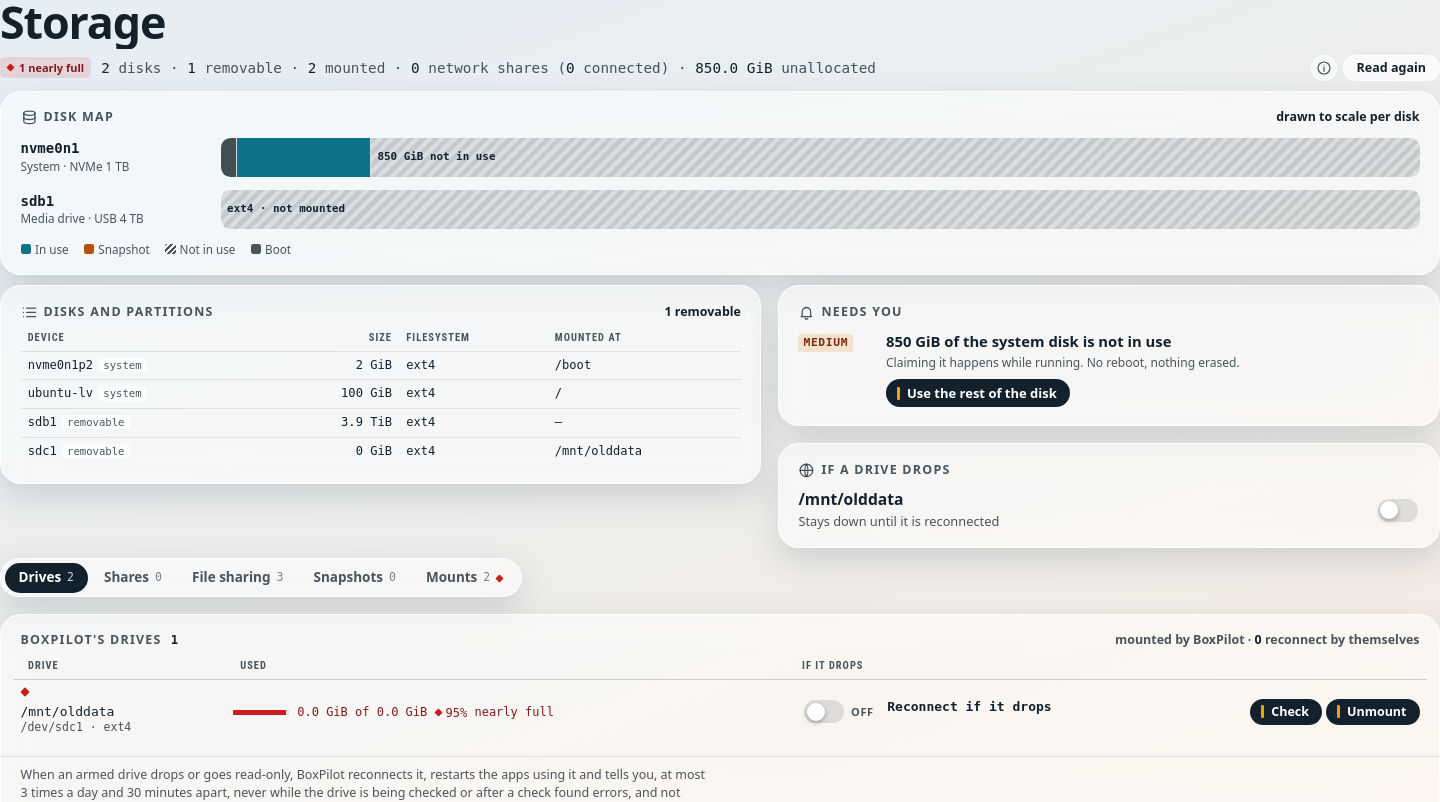
Test: Storage page › Drives › checks a drive BoxPilot mounted, naming the apps it pauses and the shares it disconnects
The image size is (1440, 802).
Click the button with aria-label "Check this drive" at (1286,712), box [1250, 699, 1322, 725]
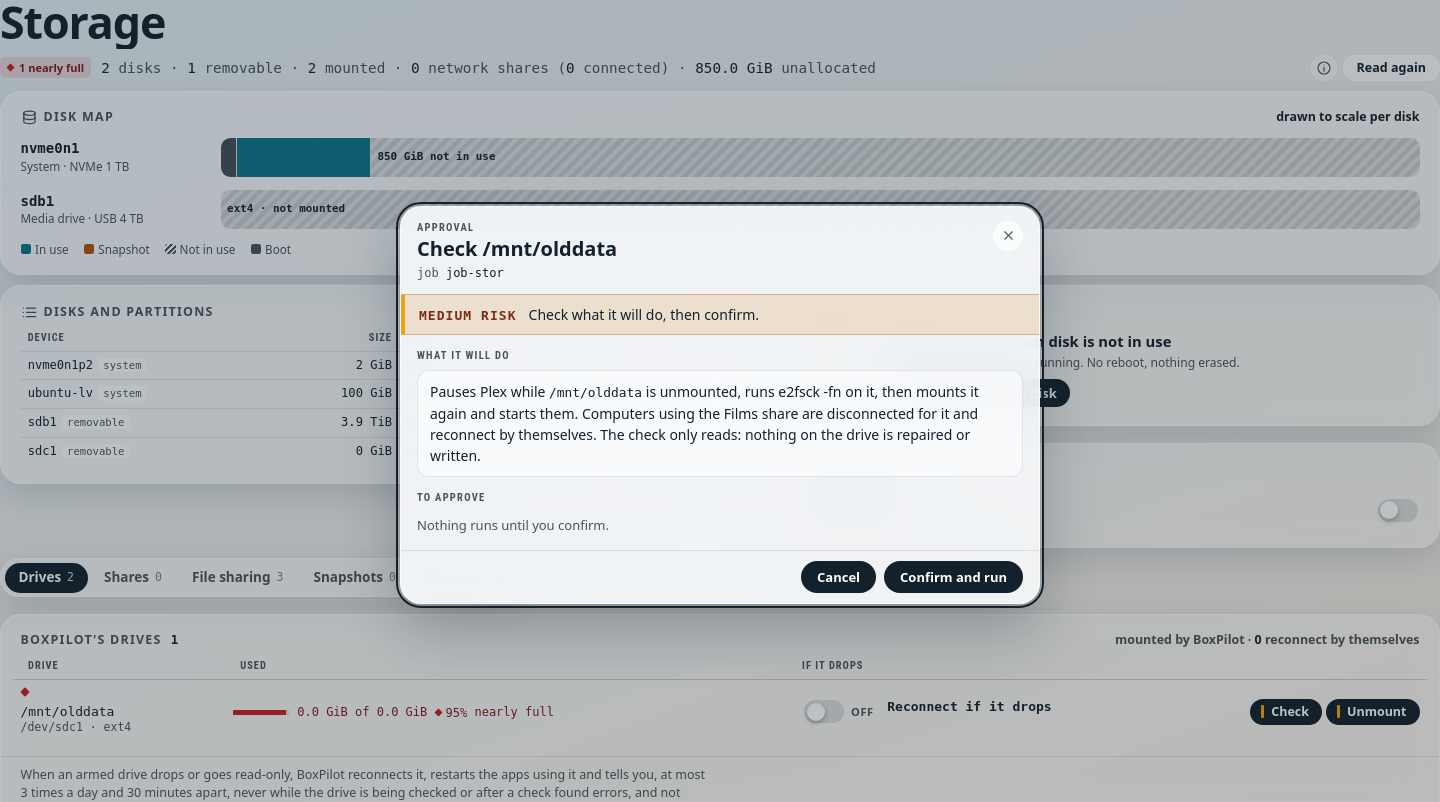
Expected: the text "Pauses Plex while" is shown, [430, 382, 549, 401]
Expected: the text "runs e2fsck -fn on it, then mounts it again and starts them. Computers using the Films share are disconnected for it an" is shown, [430, 382, 979, 464]
